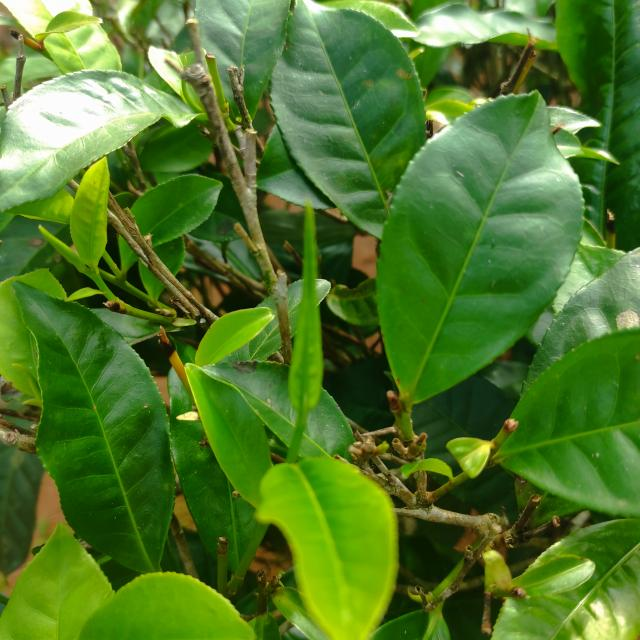unopened_leaf: (277, 195, 333, 456), (26, 210, 109, 294)
